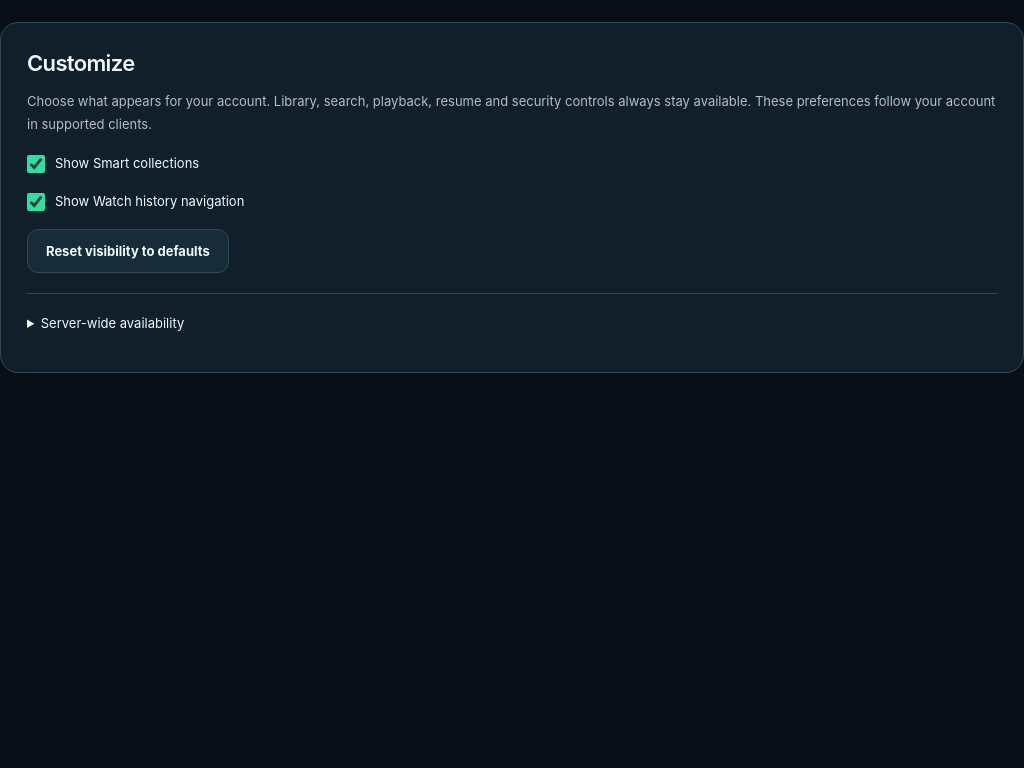
distinguishes admin-disabled from personally hidden and retains the personal choice
Step 1. Click the heading "Server-wide availability" → [113, 323], box [41, 315, 184, 331]
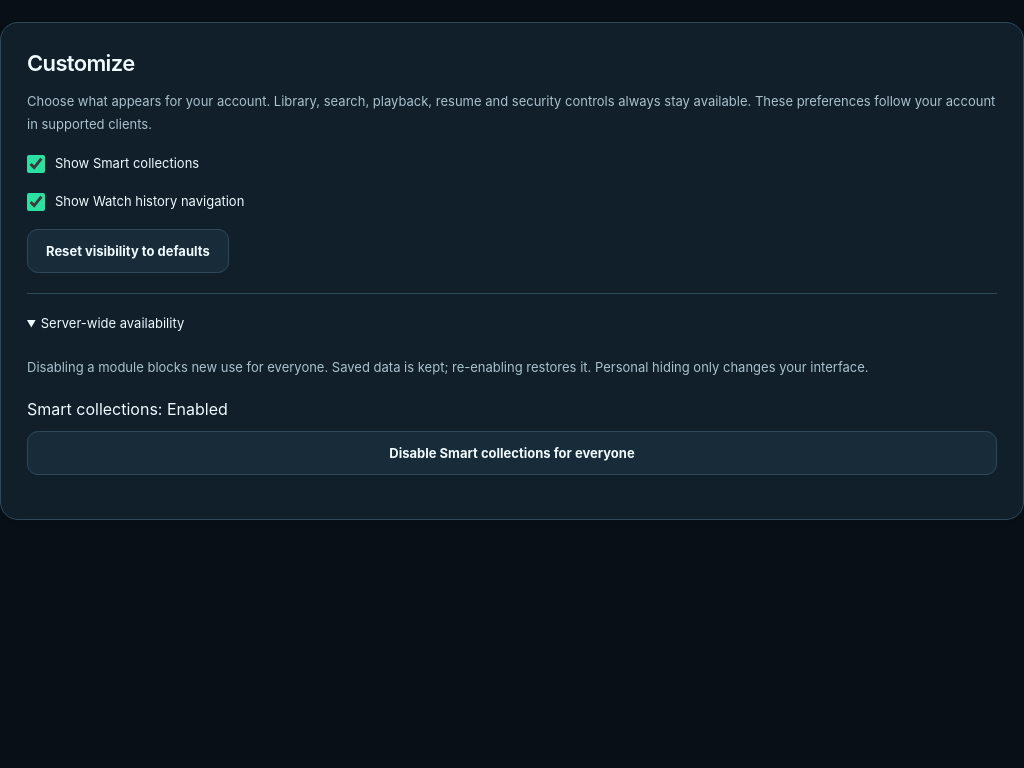
Step 2. Click the button "Disable Smart collections for everyone" → [512, 453], box [27, 431, 997, 475]
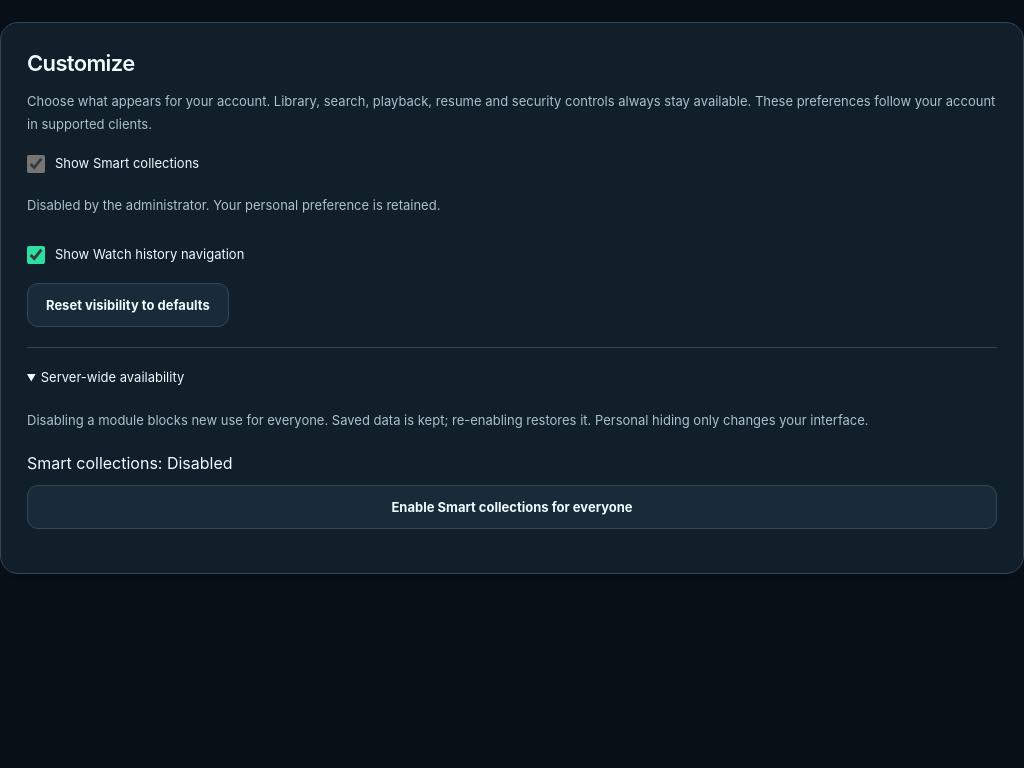
Expected: the checkbox labelled "Show Smart collections" is checked, [27, 155, 45, 173]
Expected: the checkbox labelled "Show Smart collections" is disabled, [27, 155, 45, 173]
Expected: the text "Disabled by the administrator" is shown, [27, 197, 440, 213]
